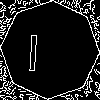I: (25, 25, 41, 72)
